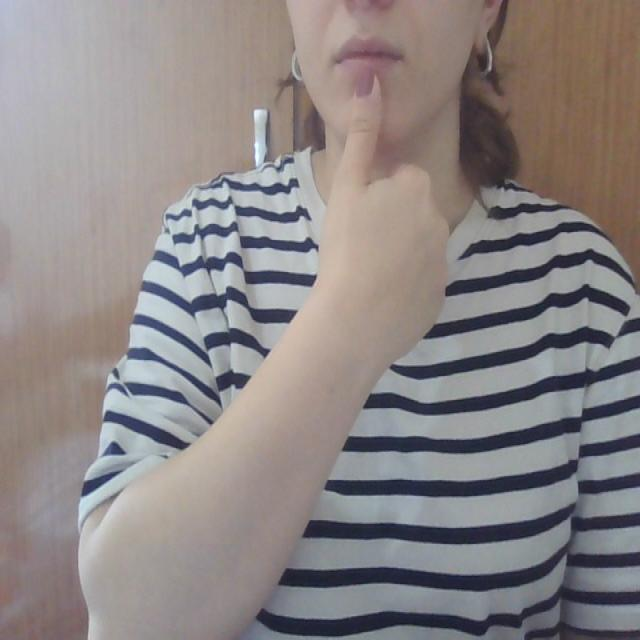Baba: (319, 23, 413, 169)
